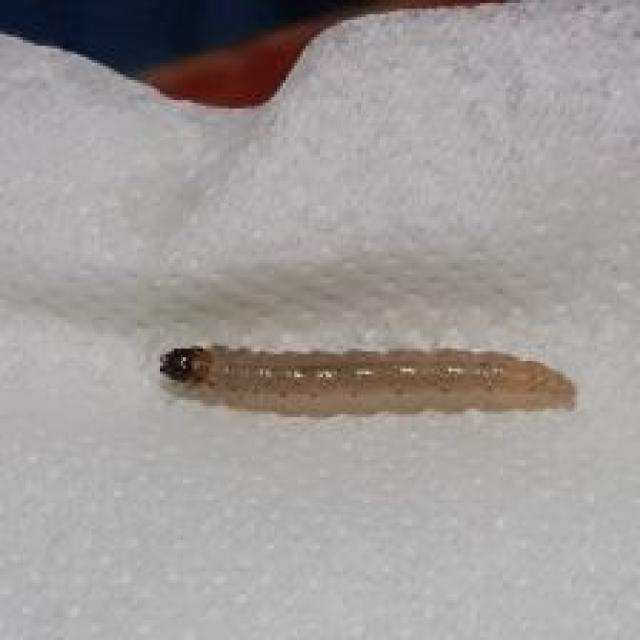white mucus: (139, 335, 589, 421)
